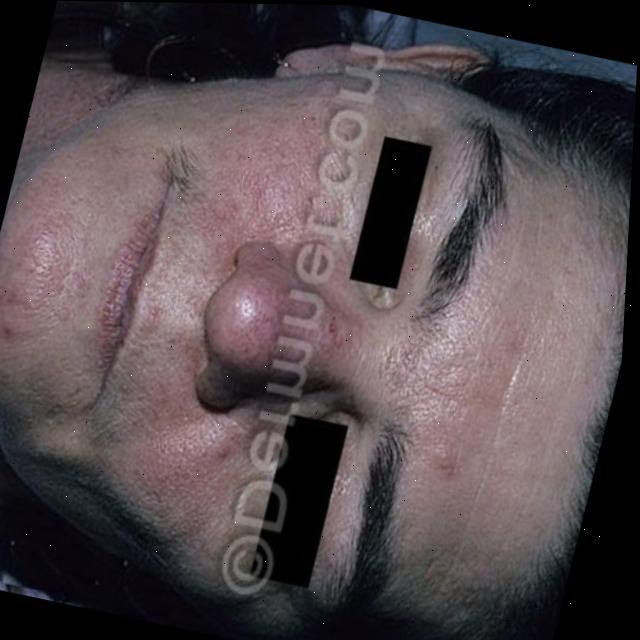Rosacea: (122, 80, 360, 530), (421, 312, 545, 518), (0, 186, 81, 363)
